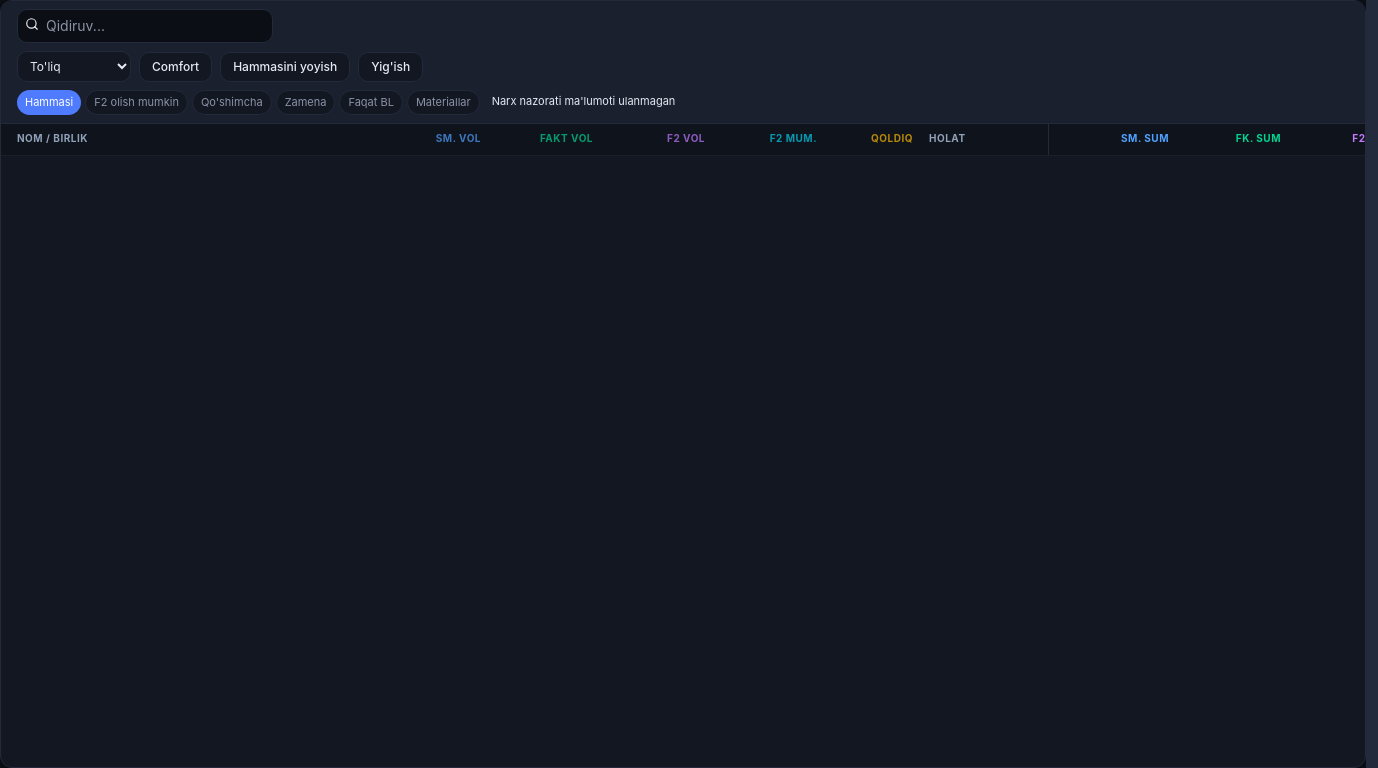
Test: intentional estimate row details › removes the mismatched extra heading row for every preset
The width and height of the screenshot is (1378, 768).
Select "F2" in the dropdown named "Ustun preset": (74, 66) [17,51,131,82]
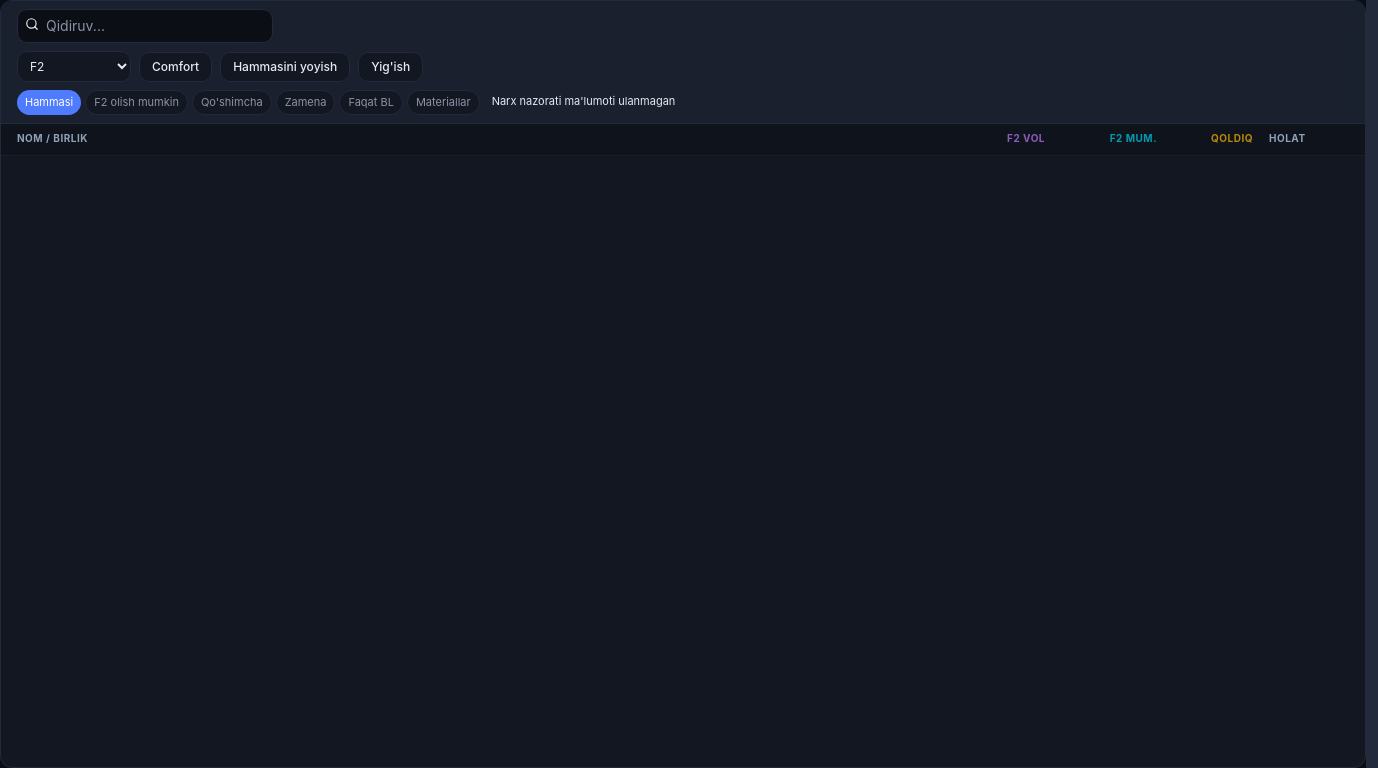
Expected: the text "F2 Vol" is shown, [1007,132,1045,144]
Now the text "Sm. Vol" is gone
